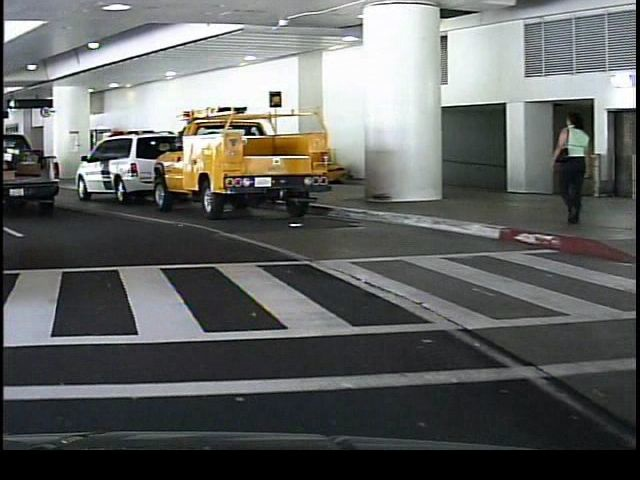person: (543, 111, 594, 230)
